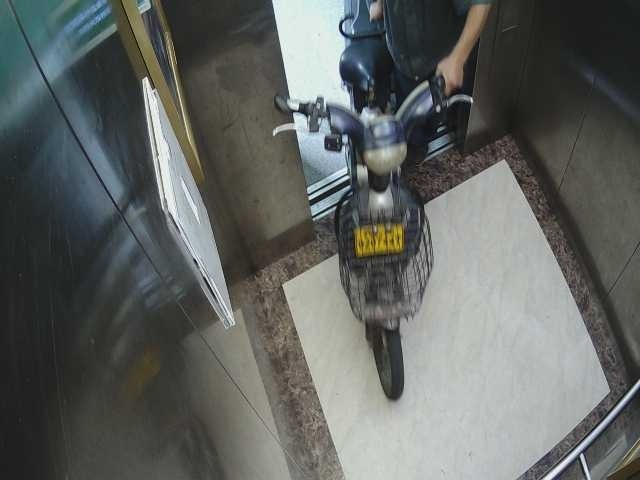emotor: (274, 1, 473, 400)
